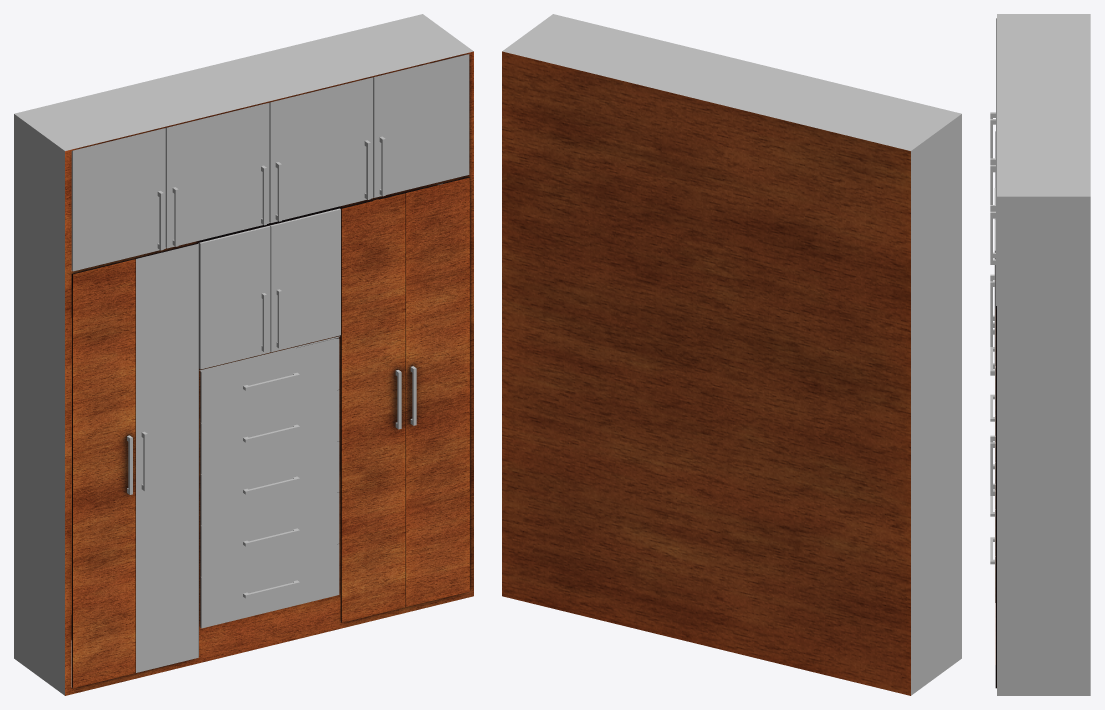
File: SM_Closet.fbx
The picture shows the model from 3 angles, left to right: view 1: azimuth 30°, elevation 25°; view 2: azimuth 150°, elevation 25°; view 3: azimuth 270°, elevation 25°; orthographic projection. The views are drawn at different scales.
Parts seen in each view (by area): view 1: SM_Closet; view 2: SM_Closet; view 3: SM_Closet.
Boxes of the visible parts, bbox=[...] form: SM_Closet: bbox=[14, 14, 473, 695]; SM_Closet: bbox=[502, 14, 961, 695]; SM_Closet: bbox=[990, 14, 1090, 695].
Bounding box in the file's own units: 255 × 325 × 59.32.
